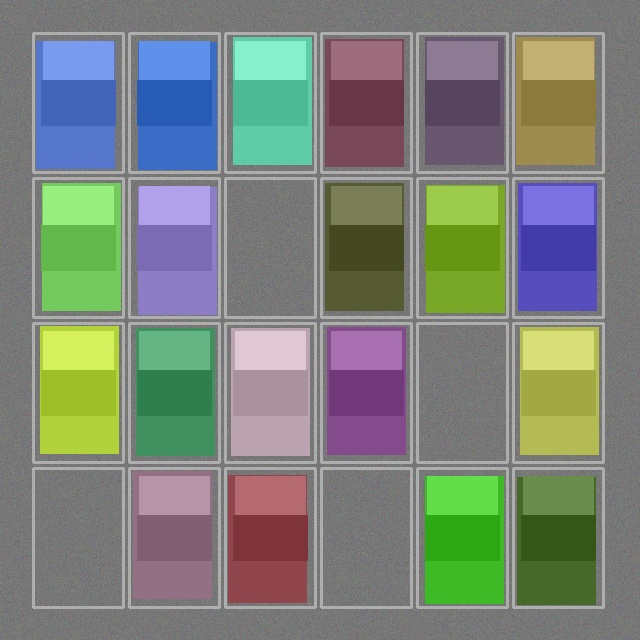space-empty: (227, 180, 313, 315), (419, 325, 505, 460), (35, 470, 121, 605), (323, 470, 409, 605)
space-occupied: (35, 35, 121, 170), (131, 35, 217, 170), (227, 35, 313, 170), (323, 35, 409, 170), (419, 35, 505, 170), (515, 35, 601, 170), (35, 180, 121, 315), (131, 180, 217, 315), (323, 180, 409, 315), (419, 180, 505, 315), (515, 180, 601, 315), (35, 325, 121, 460), (131, 325, 217, 460), (227, 325, 313, 460), (323, 325, 409, 460), (515, 325, 601, 460), (131, 470, 217, 605), (227, 470, 313, 605), (419, 470, 505, 605), (515, 470, 601, 605)
